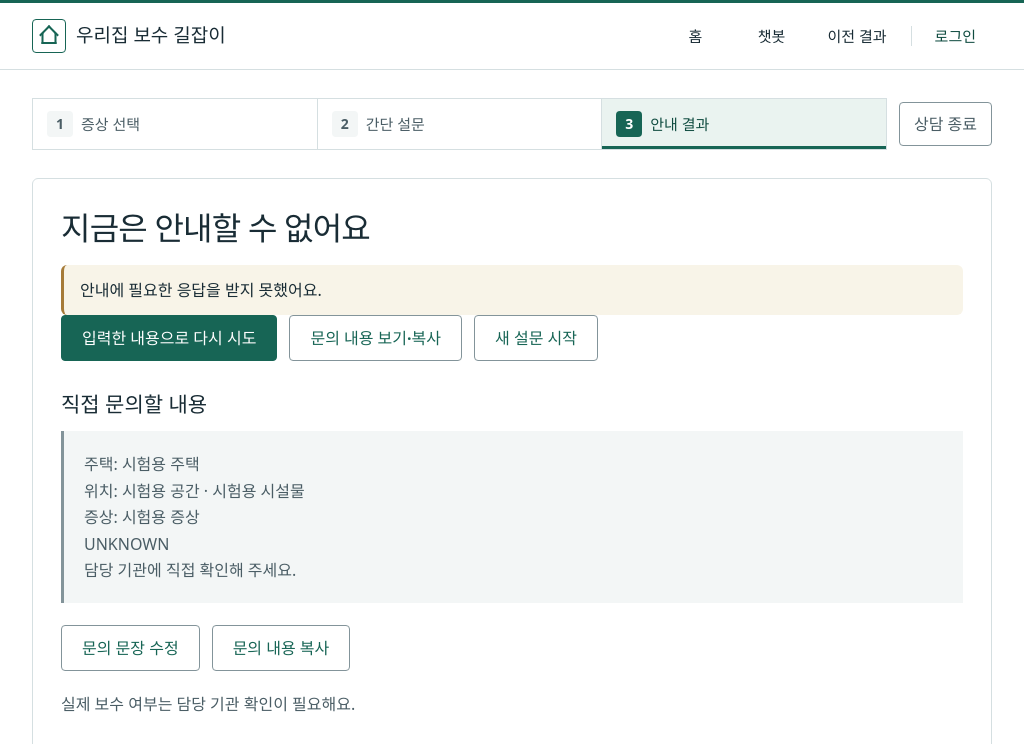
Scenario: retries an unavailable result with the saved revision and recovers on the same screen (OK)
Expected: the link with id "contact-heading" reads "문의 내용 보기·복사", [289,315,462,361]
Expected: the heading with id "contact-heading" reads "직접 문의할 내용", [61,390,207,418]
Click the button "입력한 내용으로 다시 시도": (169, 338) [61,315,277,361]
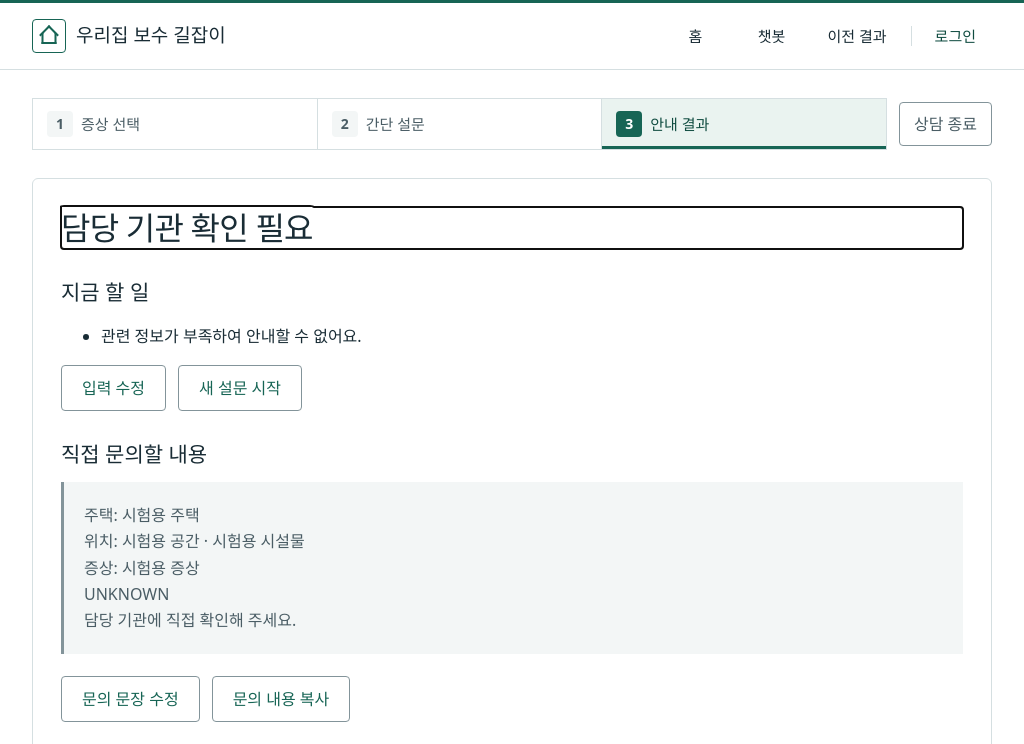
Expected: the text "지금 할 일" is shown, [61,278,149,306]
